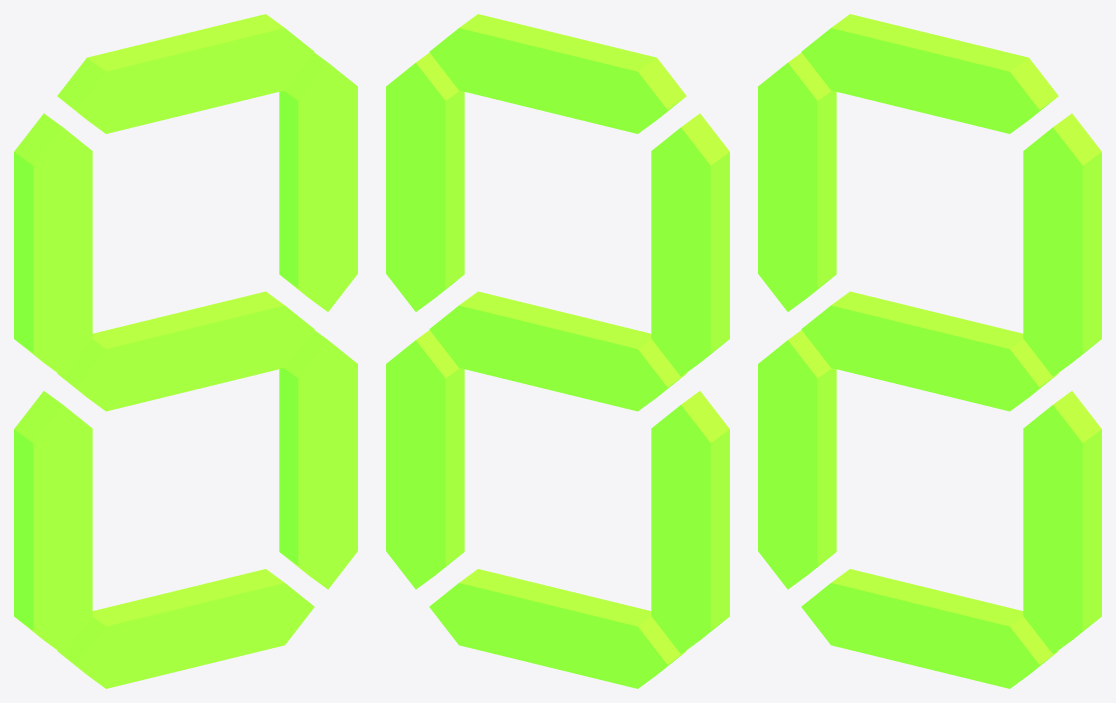
The model's file is number8.glb.
The picture shows the model from 3 angles, left to right: view 1: azimuth 30°, elevation 25°; view 2: azimuth 150°, elevation 25°; view 3: azimuth 330°, elevation 25°; orthographic projection.
Parts seen in each view (by area): view 1: Cube.009; view 2: Cube.009; view 3: Cube.009.
Part boxes in pixels (x1,y1,x2,y2): Cube.009: (14,14,357,688); Cube.009: (386,14,729,688); Cube.009: (758,14,1101,688).
Size of the model in its own units: 9.8 by 17.8 by 1.
